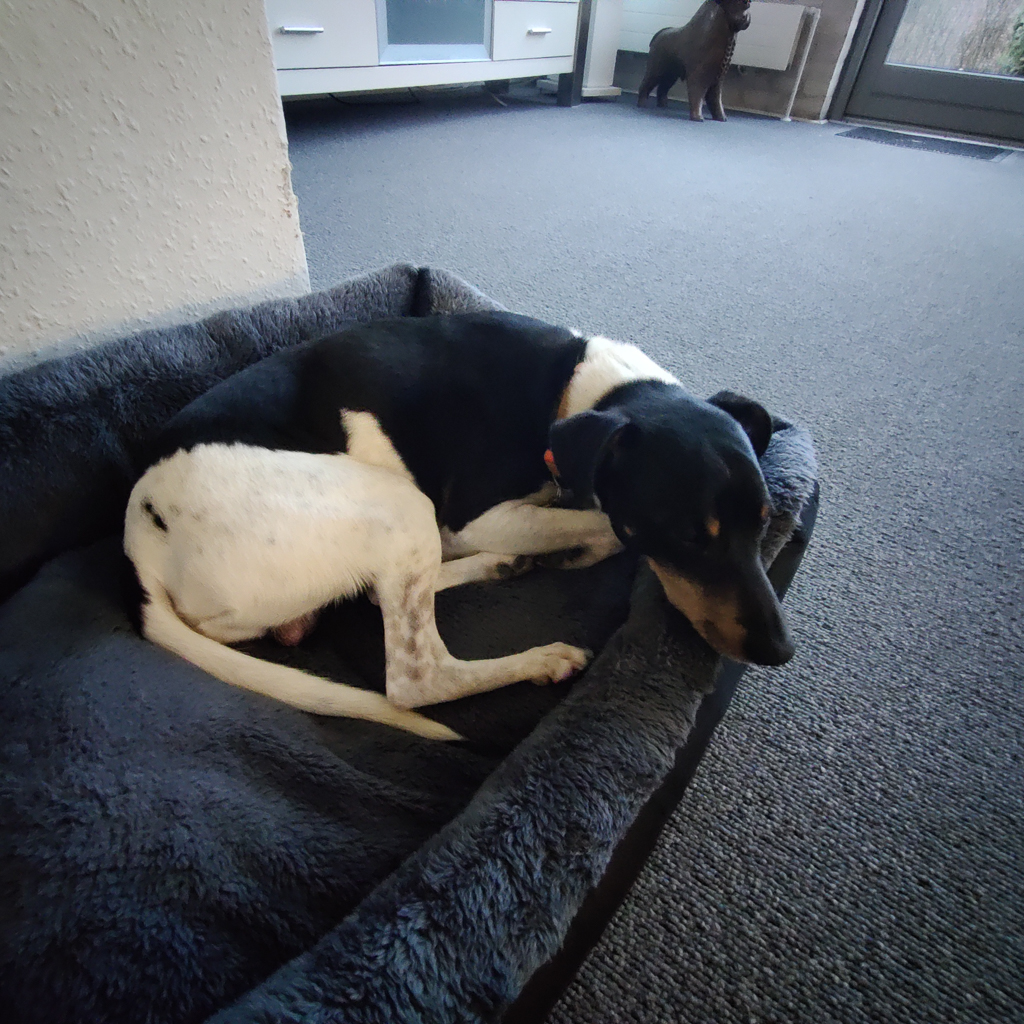Cattle: (627, 0, 767, 135)
Dog: (88, 274, 847, 784)
